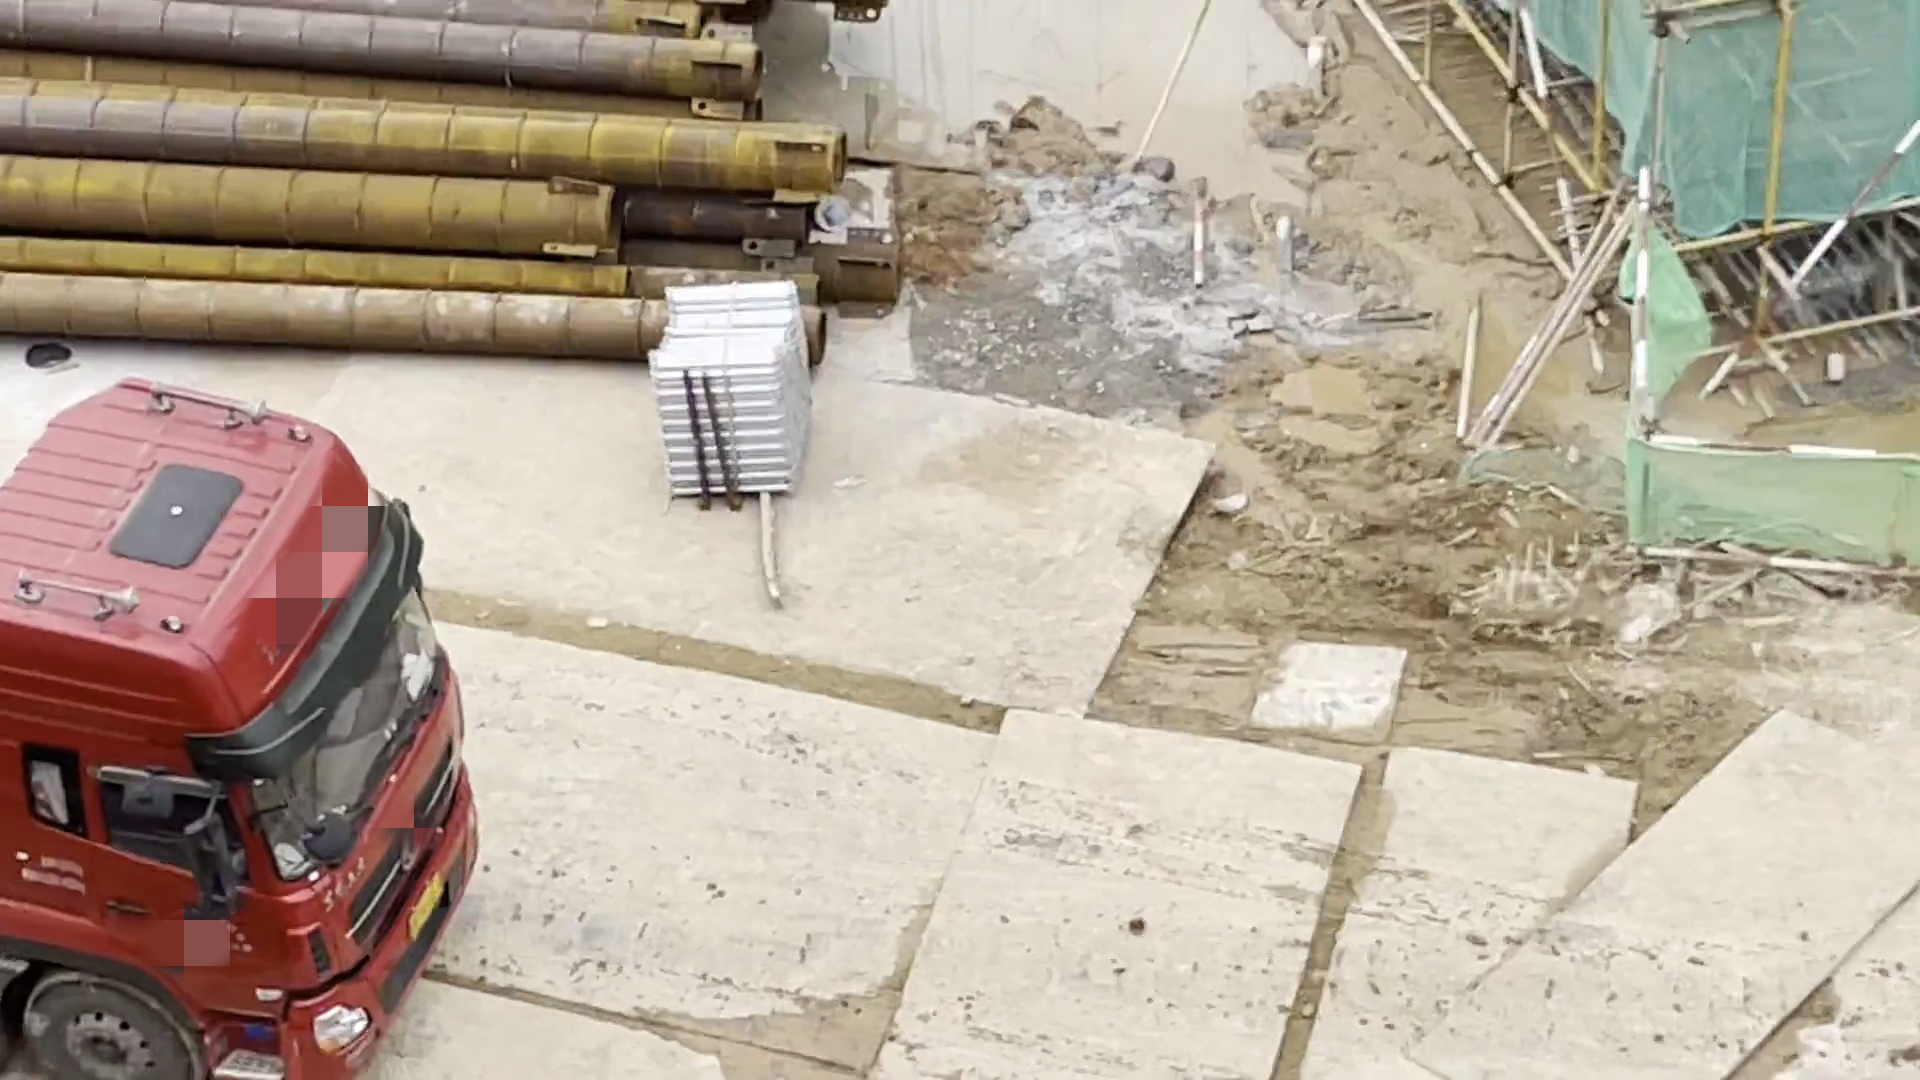scaffold: (640, 266, 833, 527)
